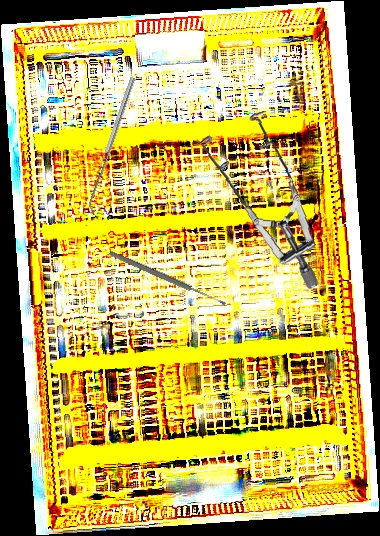Spatula Surgical: (84, 77, 141, 215)
Speculum: (183, 105, 334, 290)
Surgical Spoon: (108, 249, 227, 308)
